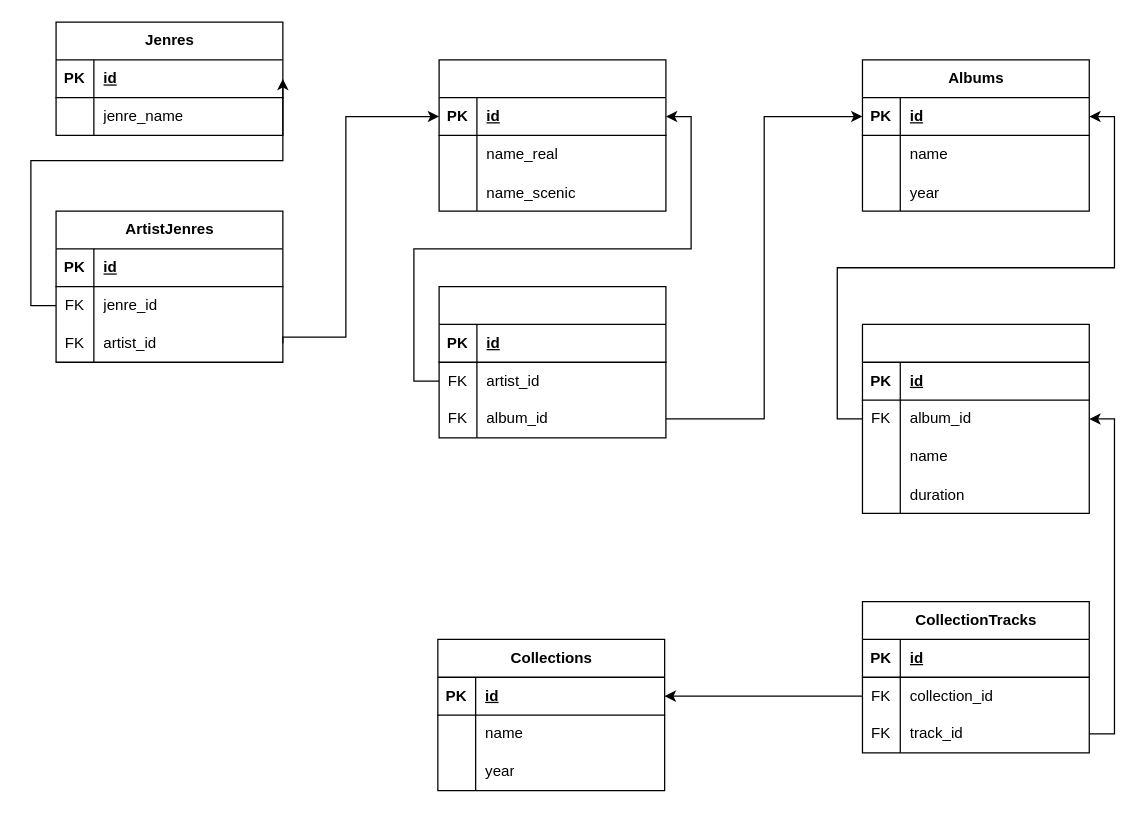
Some shapes in this 1147 by 813 pixel diagram are drawn without their labels. Each missing label, with the box of its shape:
Aritst: (438, 59, 666, 211)
ArtistAlbum: (438, 285, 666, 438)
Tracks: (861, 323, 1089, 513)
